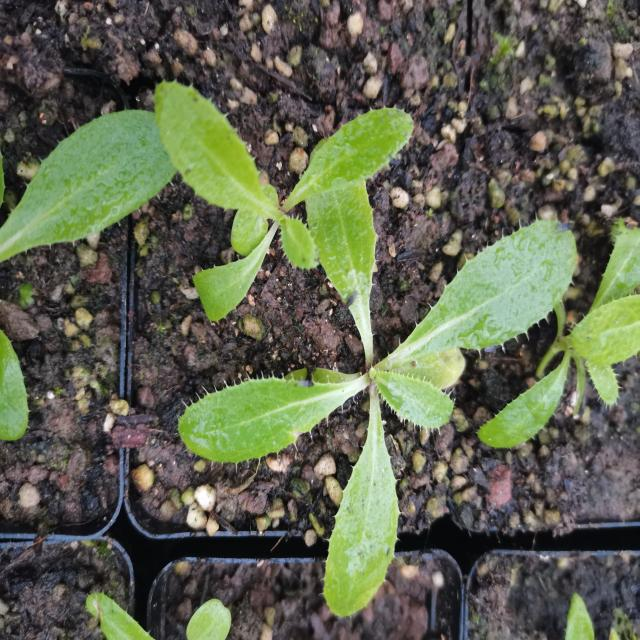field_thistle: (193, 72, 590, 461), (41, 225, 336, 490)
